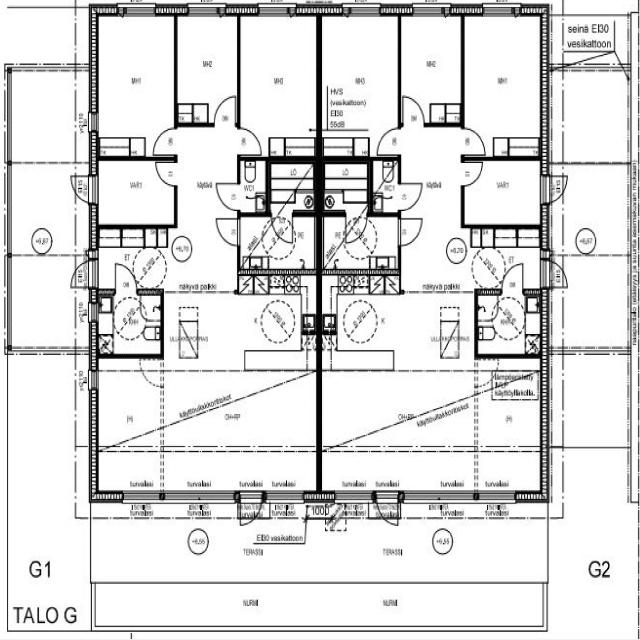door: (540, 260, 571, 288), (67, 176, 98, 204), (540, 176, 570, 204), (67, 261, 98, 288), (240, 492, 262, 530), (377, 492, 397, 530), (460, 128, 486, 155), (398, 219, 423, 247), (237, 128, 262, 155), (271, 211, 292, 243), (346, 211, 367, 243), (502, 264, 523, 296), (216, 220, 240, 247), (216, 183, 240, 210), (377, 128, 401, 155), (398, 184, 422, 211), (402, 97, 423, 127), (153, 129, 177, 155), (215, 96, 235, 127), (116, 264, 136, 295), (460, 163, 482, 186), (155, 163, 177, 186), (540, 250, 556, 260), (82, 250, 98, 260)
